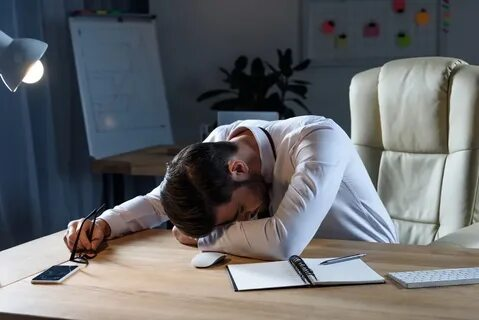sleep: (93, 113, 400, 263)
